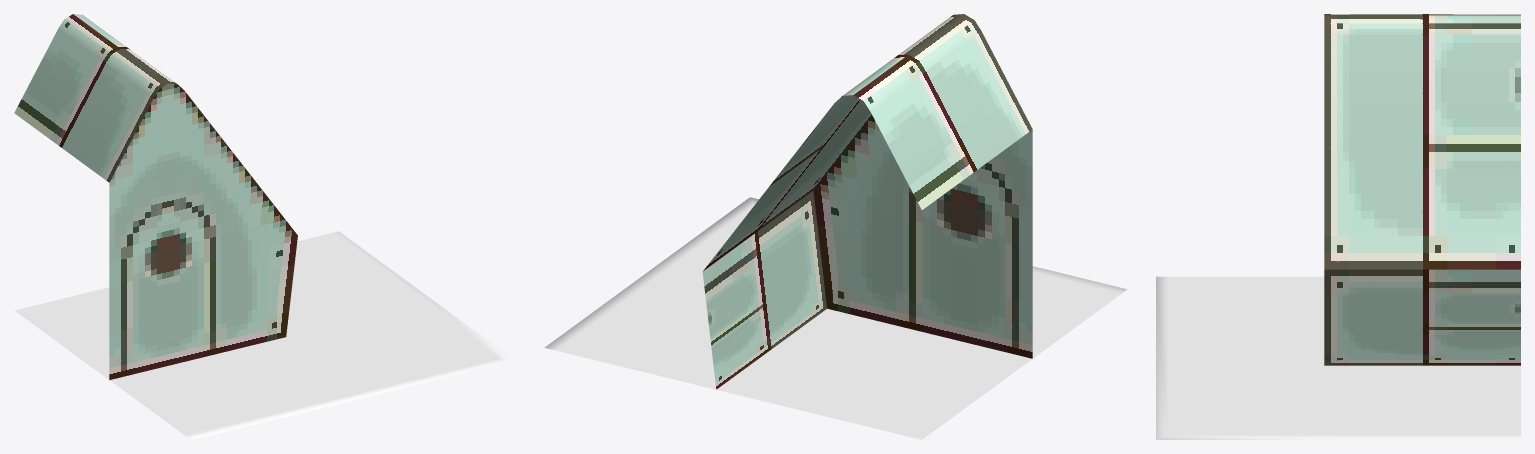
Rendered from HouseParts_mat.dae.
3 views of the same model, side by side, from view 1: azimuth 30°, elevation 25°; view 2: azimuth 150°, elevation 25°; view 3: azimuth 270°, elevation 25° (orthographic). The views are drawn at different scales.
Parts seen in each view (by area): view 1: HouseParts_mat; view 2: HouseParts_mat; view 3: HouseParts_mat.
Part boxes in pixels (box(x1,y1,x2,y2)): HouseParts_mat: box(14, 14, 515, 439); HouseParts_mat: box(544, 14, 1127, 439); HouseParts_mat: box(1156, 14, 1520, 439).
Size of the model in its own units: 55.11 by 45.75 by 52.
2 materials, 1 textured.
